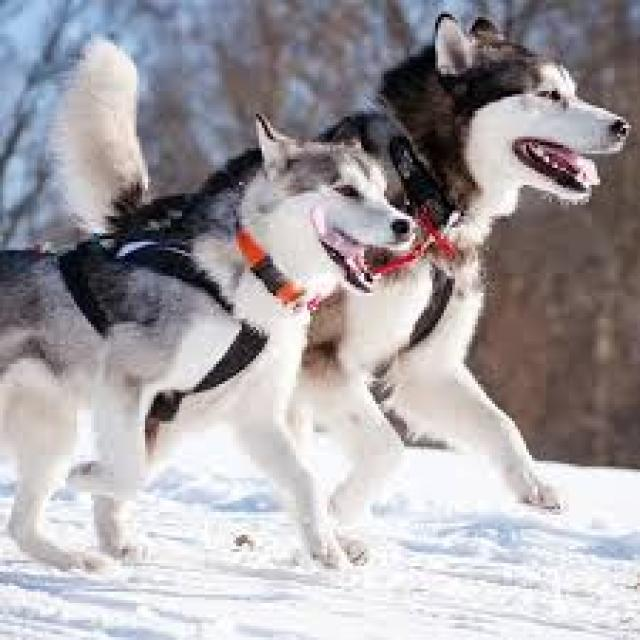ALASKAN_MALAMUTE: (47, 9, 632, 523), (0, 121, 434, 588)
